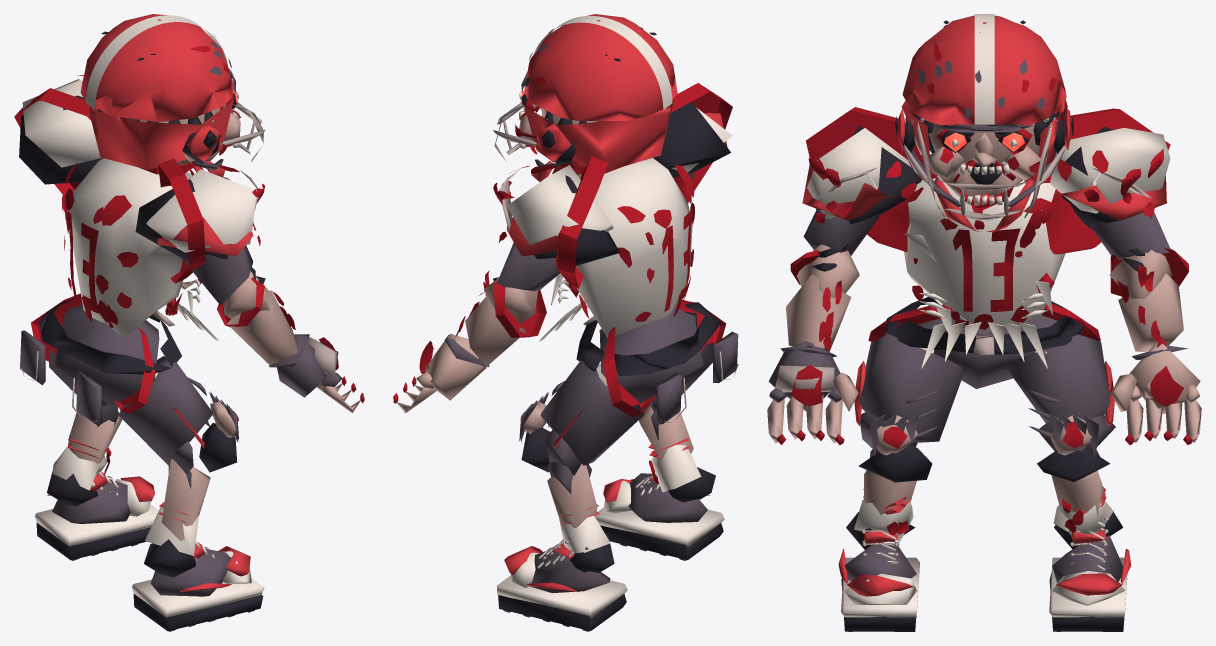
The model's file is inf.armored-football.lod1.glb.
3 renders of one model, left to right at view 1: azimuth 30°, elevation 25°; view 2: azimuth 150°, elevation 25°; view 3: azimuth 270°, elevation 25°, orthographic. The views are drawn at different scales.
Parts seen in each view (by area): view 1: head, torso, hip, armR, footR, footL, legR, armL, shinR, foreArmR, shinL, handR (+5 smaller); view 2: head, torso, hip, armL, footL, footR, legL, shinL, foreArmL, armR, shinR, handL (+5 smaller); view 3: head, torso, armL, armR, legR, legL, footL, footR, handR, hip, handL, foreArmL (+8 smaller).
Part boxes in pixels (x1=…): head: x1=80, y1=14, x2=265, y2=170; torso: x1=62, y1=158, x2=225, y2=340; hip: x1=19, y1=298, x2=181, y2=426; armR: x1=135, y1=165, x2=265, y2=305; footR: x1=131, y1=539, x2=264, y2=631; footL: x1=34, y1=461, x2=158, y2=560; legR: x1=119, y1=356, x2=239, y2=465; armL: x1=19, y1=75, x2=103, y2=184; shinR: x1=145, y1=422, x2=236, y2=555; foreArmR: x1=223, y1=271, x2=309, y2=367; shinL: x1=52, y1=400, x2=122, y2=490; handR: x1=277, y1=335, x2=364, y2=413; head: x1=493, y1=14, x2=677, y2=170; torso: x1=532, y1=158, x2=694, y2=341; hip: x1=576, y1=302, x2=738, y2=424; armL: x1=493, y1=165, x2=619, y2=291; footL: x1=497, y1=533, x2=627, y2=631; footR: x1=596, y1=467, x2=724, y2=560; legL: x1=519, y1=360, x2=644, y2=465; shinL: x1=521, y1=427, x2=610, y2=553; foreArmL: x1=444, y1=270, x2=537, y2=367; armR: x1=653, y1=93, x2=732, y2=179; shinR: x1=639, y1=398, x2=701, y2=492; handL: x1=393, y1=333, x2=486, y2=413; head: x1=895, y1=14, x2=1073, y2=220; torso: x1=904, y1=154, x2=1065, y2=368; armL: x1=1050, y1=127, x2=1170, y2=271; armR: x1=802, y1=125, x2=923, y2=271; legR: x1=854, y1=334, x2=963, y2=457; legL: x1=1005, y1=334, x2=1114, y2=457; footL: x1=1049, y1=507, x2=1131, y2=631; footR: x1=838, y1=512, x2=919, y2=631; handR: x1=767, y1=341, x2=858, y2=445; hip: x1=884, y1=297, x2=1083, y2=388; handL: x1=1111, y1=341, x2=1201, y2=445; foreArmL: x1=1109, y1=250, x2=1188, y2=359.
Size of the model in its own units: 0.6666 by 1.63 by 1.08.
